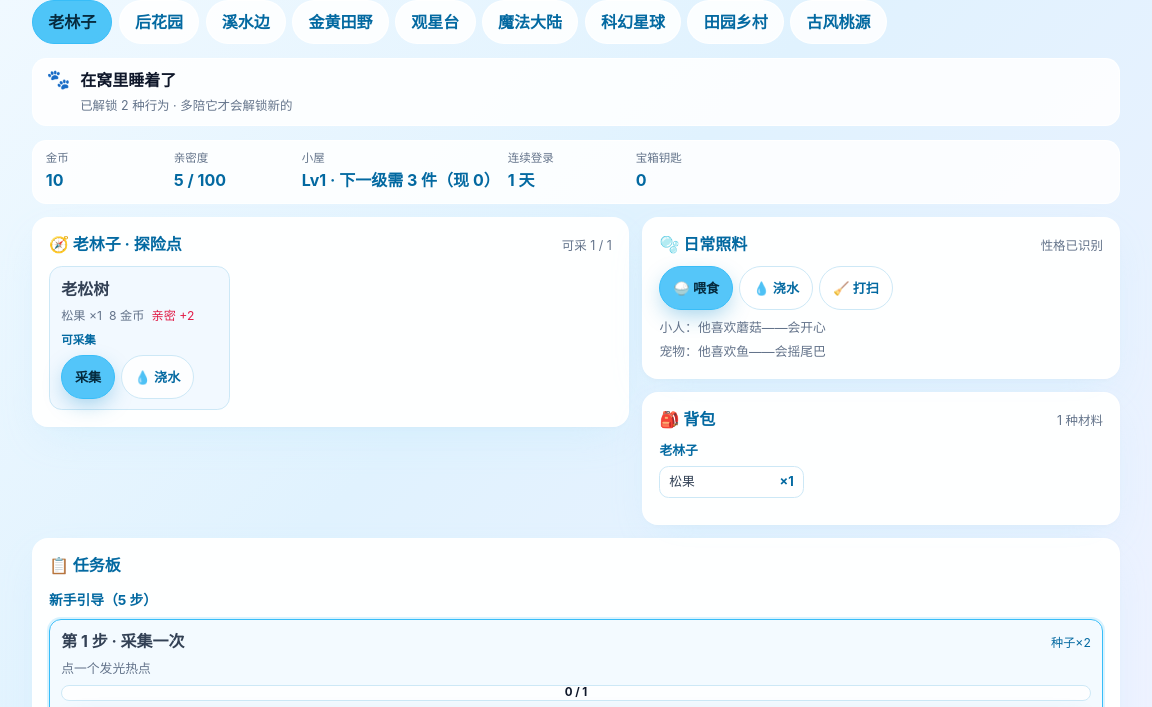
Test: GameplayPanel · 服务端权威 › 动作成功后用服务端返回的存档覆盖本地数值
This screenshot has width=1152, height=707.
Expected: the element with test id "w2-stat-coins" shows "10", [46,170,64,190]
Click the button with test id "w2-spot-forest_pine-explore". click: (88, 377)
box: [61,355,115,399]
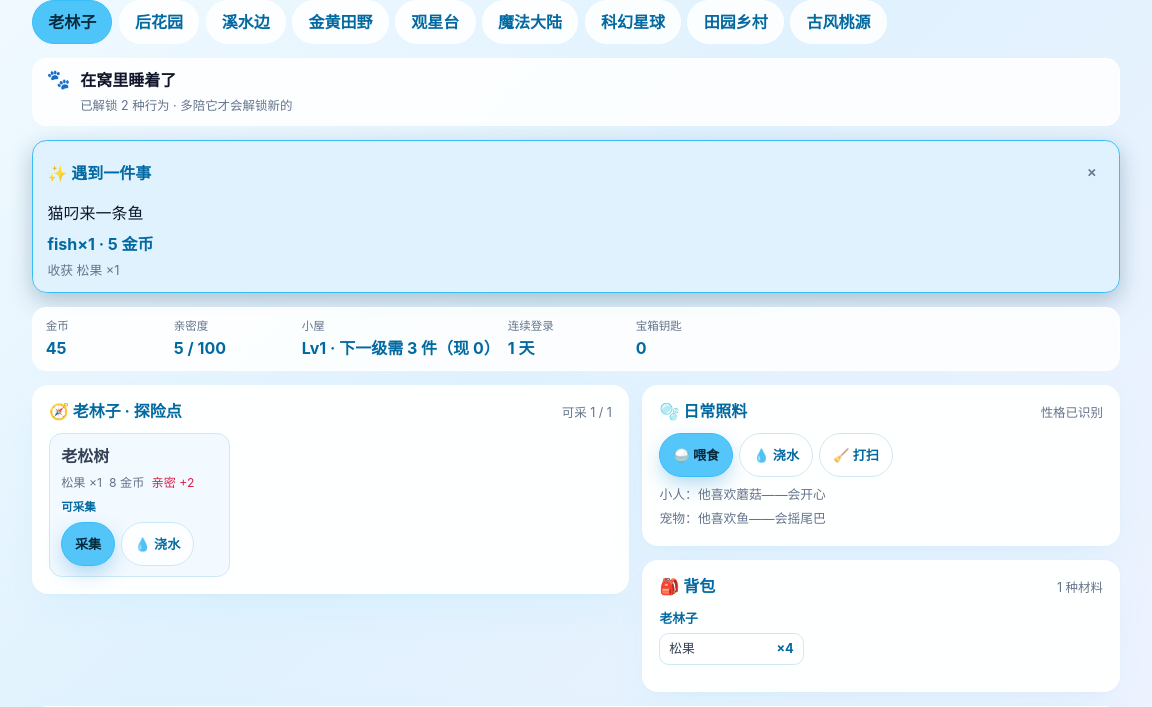
Expected: the element with test id "w2-stat-coins" shows "45", [46,338,67,358]
Expected: the list item with test id "w2-mat-pinecone" shows "×4", [776,642,794,656]
